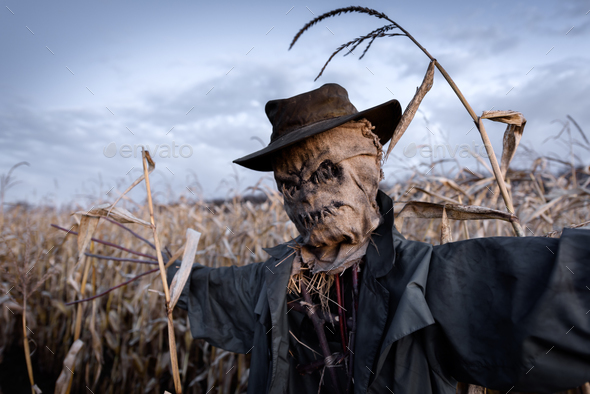person-like: (84, 81, 590, 384)
